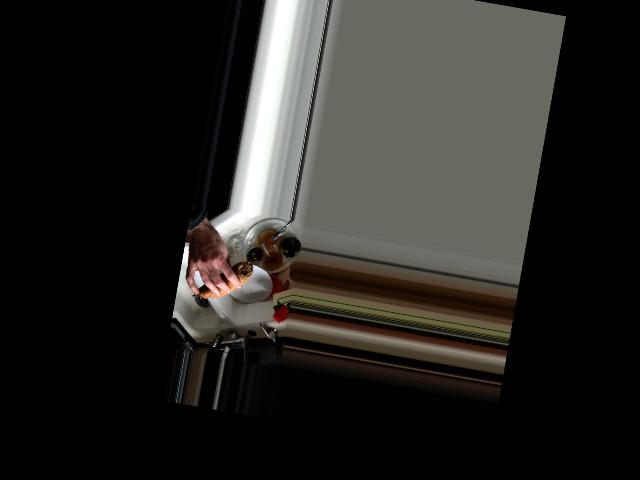sweet_potato: (191, 253, 252, 305)
